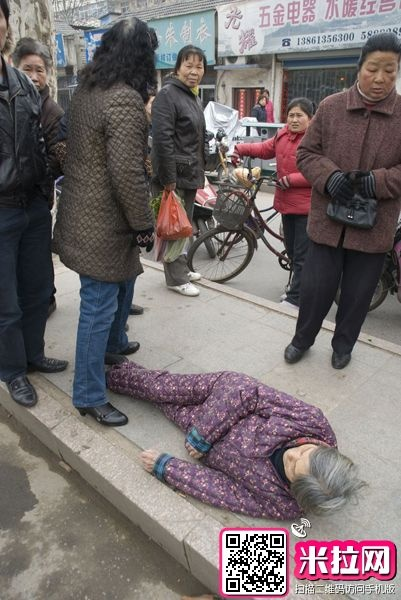falling: (97, 330, 375, 532)
